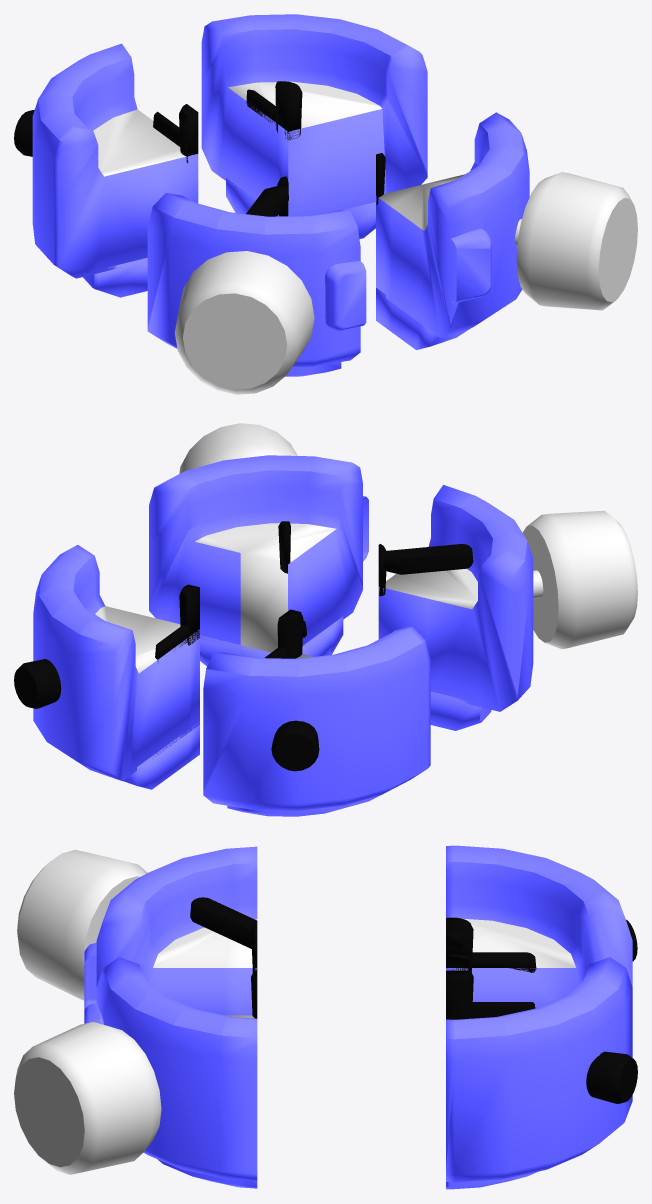
The model's file is item_D.fbx.
3 renders of one model, top to bottom at view 1: azimuth 30°, elevation 25°; view 2: azimuth 150°, elevation 25°; view 3: azimuth 270°, elevation 25°, orthographic. The views are drawn at different scales.
Visible parts, largest first — view 1: itemD_pCylinder126, itemD_pCylinder126.001, itemD_pCylinder126.002, itemD_pCylinder126.003; view 2: itemD_pCylinder126.001, itemD_pCylinder126.002, itemD_pCylinder126.003, itemD_pCylinder126; view 3: itemD_pCylinder126.001, itemD_pCylinder126, itemD_pCylinder126.002, itemD_pCylinder126.003.
Part boxes in pixels (bbox=[...]): itemD_pCylinder126: bbox=[201, 14, 427, 238]; itemD_pCylinder126.001: bbox=[376, 112, 637, 349]; itemD_pCylinder126.002: bbox=[147, 176, 366, 394]; itemD_pCylinder126.003: bbox=[14, 43, 198, 297]; itemD_pCylinder126.001: bbox=[149, 423, 368, 666]; itemD_pCylinder126.002: bbox=[378, 485, 637, 730]; itemD_pCylinder126.003: bbox=[203, 609, 430, 816]; itemD_pCylinder126: bbox=[14, 545, 199, 789]; itemD_pCylinder126.001: bbox=[14, 957, 257, 1188]; itemD_pCylinder126: bbox=[446, 957, 637, 1189]; itemD_pCylinder126.002: bbox=[17, 846, 257, 1015]; itemD_pCylinder126.003: bbox=[446, 845, 637, 1008].
Size of the model in its own units: 258 by 96.93 by 284.
